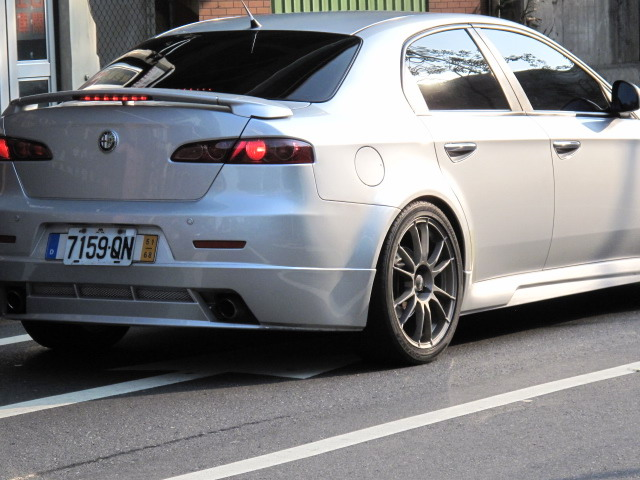plate: (63, 223, 139, 269)
